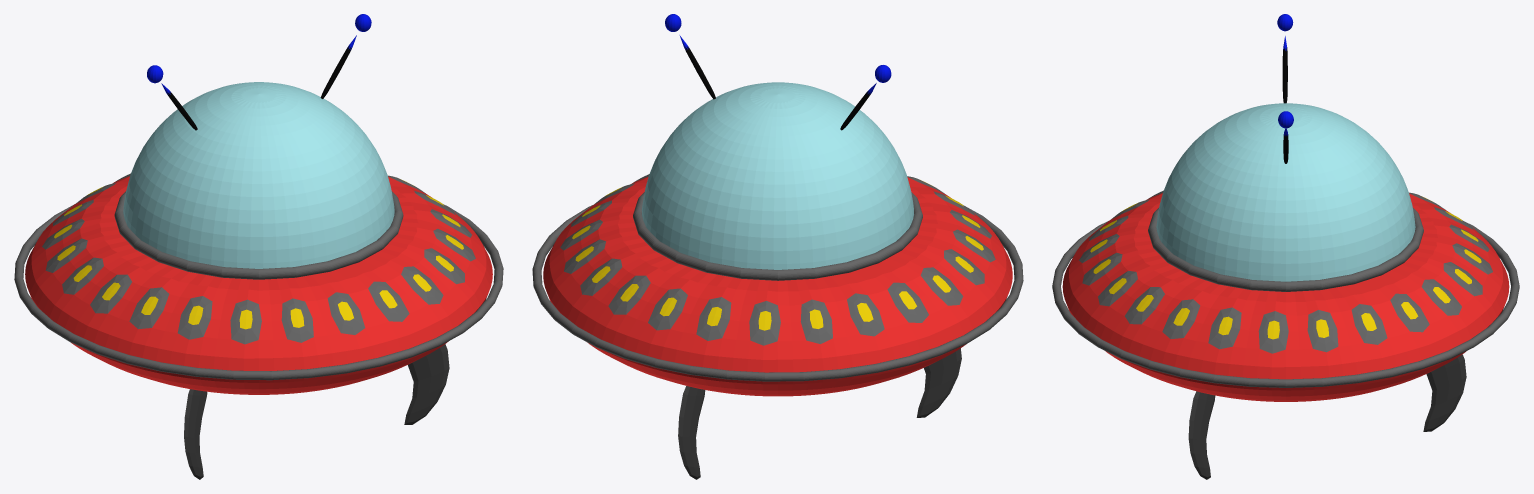
Rendered from GameAssetUFORed.fbx.
3 renders of one model, left to right at view 1: azimuth 30°, elevation 25°; view 2: azimuth 150°, elevation 25°; view 3: azimuth 270°, elevation 25°, orthographic. The views are drawn at different scales.
Visible parts, largest first — view 1: UFOBody; view 2: UFOBody; view 3: UFOBody.
Boxes of the visible parts, x1,y1,x2,y2 form: UFOBody: (14,14,503,479); UFOBody: (532,14,1023,479); UFOBody: (1052,14,1519,479).
Size of the model in its own units: 766 by 662 by 766.
